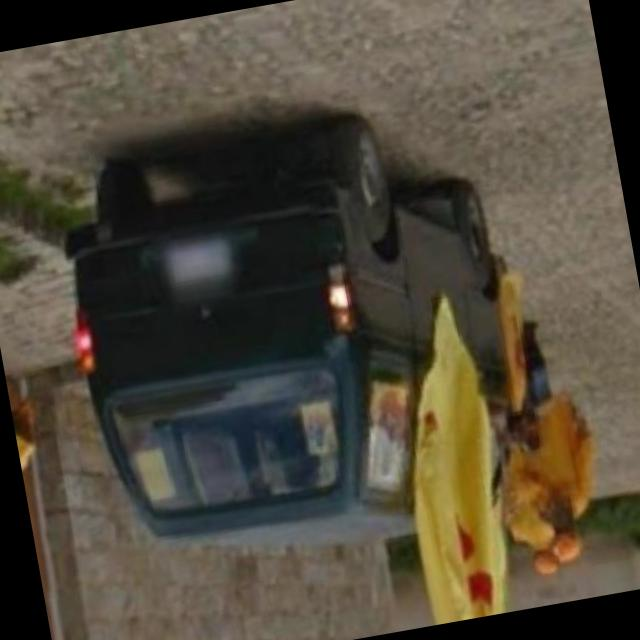car: (34, 63, 548, 562)
